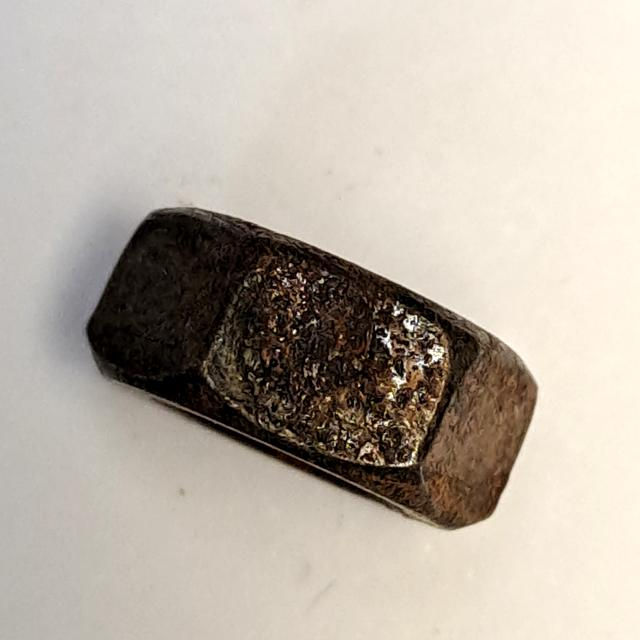Side_Rust: (59, 188, 569, 551)
